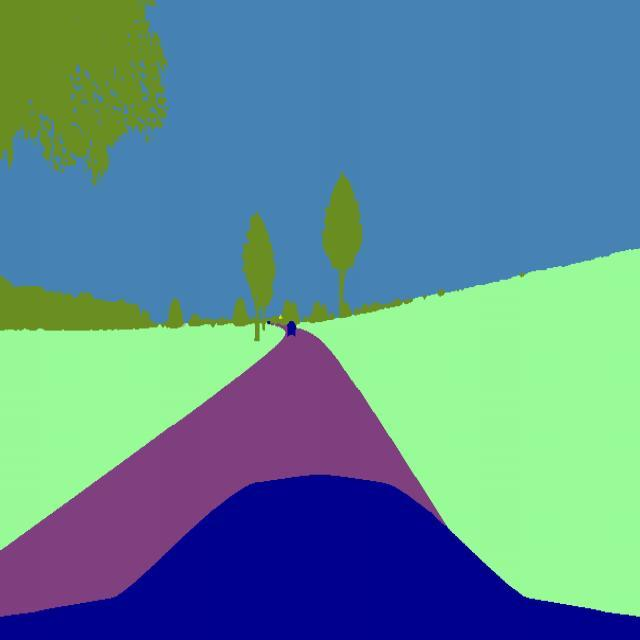safe: (284, 316, 298, 342)
